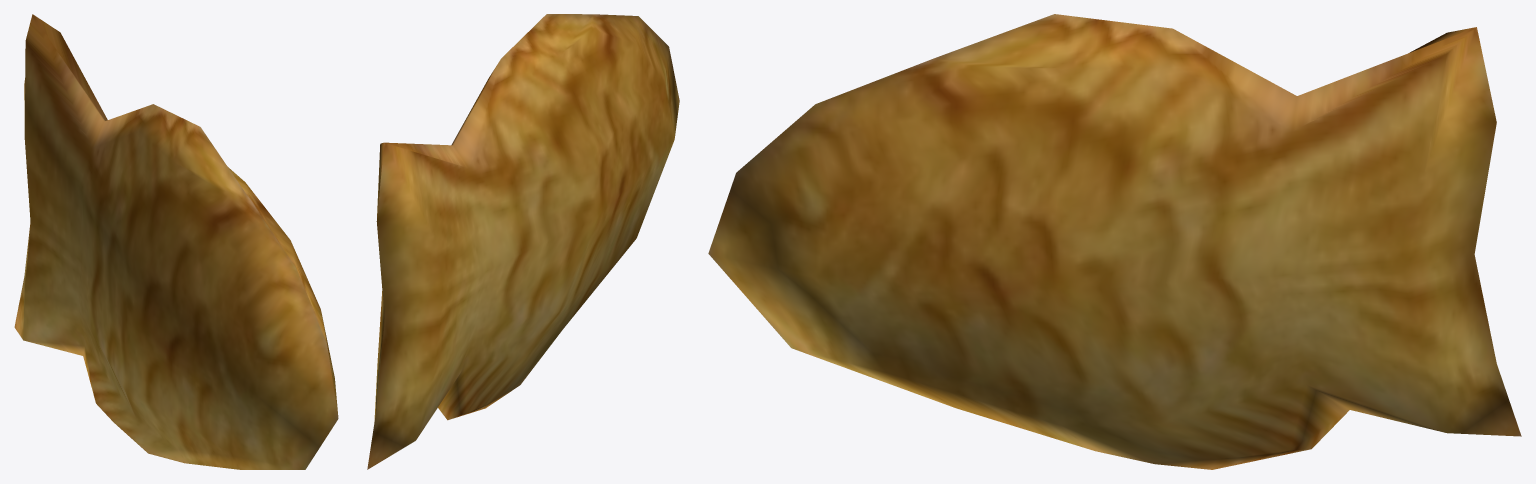
Rendered from fishbread.fbx.
3 renders of one model, left to right at view 1: azimuth 30°, elevation 25°; view 2: azimuth 150°, elevation 25°; view 3: azimuth 270°, elevation 25°, orthographic. The views are drawn at different scales.
Visible parts, largest first — view 1: Sphere.001; view 2: Sphere.001; view 3: Sphere.001.
Boxes of the visible parts, bbox=[...] form: Sphere.001: bbox=[14, 14, 338, 469]; Sphere.001: bbox=[367, 14, 679, 469]; Sphere.001: bbox=[708, 14, 1521, 469].
Bounding box in the file's own units: 40.36 × 118 × 190.
2 materials, 2 textured.
